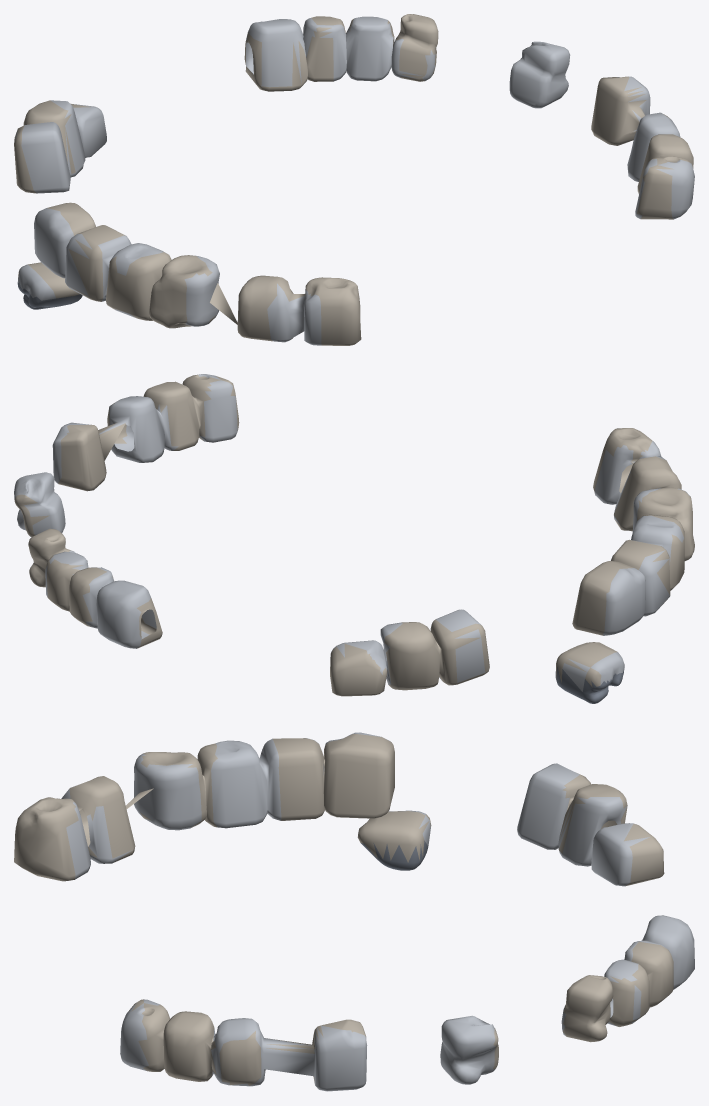
File: SM_bob_map_plaza.glb
The picture shows the model from 3 angles, top to bottom: view 1: azimuth 30°, elevation 25°; view 2: azimuth 150°, elevation 25°; view 3: azimuth 270°, elevation 25°; orthographic projection. The views are drawn at different scales.
Visible parts, largest first — view 1: SM_bob_map_plaza; view 2: SM_bob_map_plaza; view 3: SM_bob_map_plaza.
Boxes of the visible parts, box(x1,y1,x2,y2) form: SM_bob_map_plaza: box(14, 14, 694, 345); SM_bob_map_plaza: box(14, 374, 694, 703); SM_bob_map_plaza: box(14, 732, 694, 1091).
Size of the model in its own units: 2.64 by 0.5 by 2.43.
Materials: 1 (1 with a texture image).
